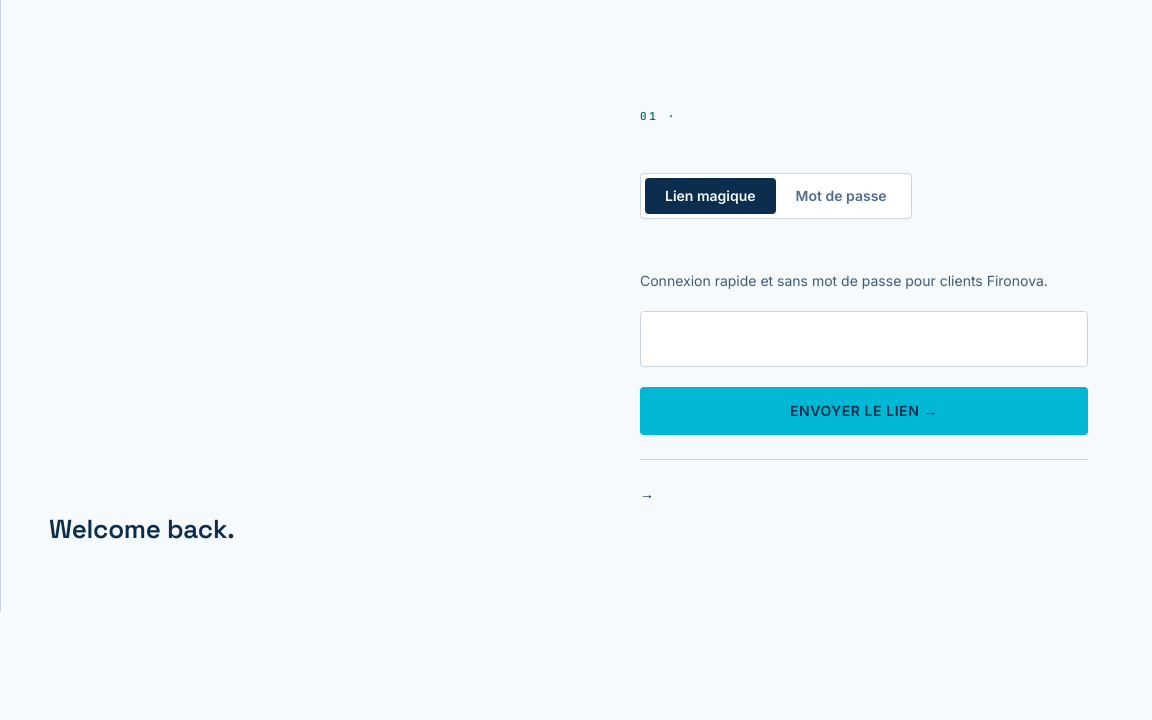
Test: la proposition ne dépend PAS de l'existence du compte
Type "compte-qui-existe@example.com" into the field with test id "login-magic-email" at (864,339), box [640,311,1088,367]
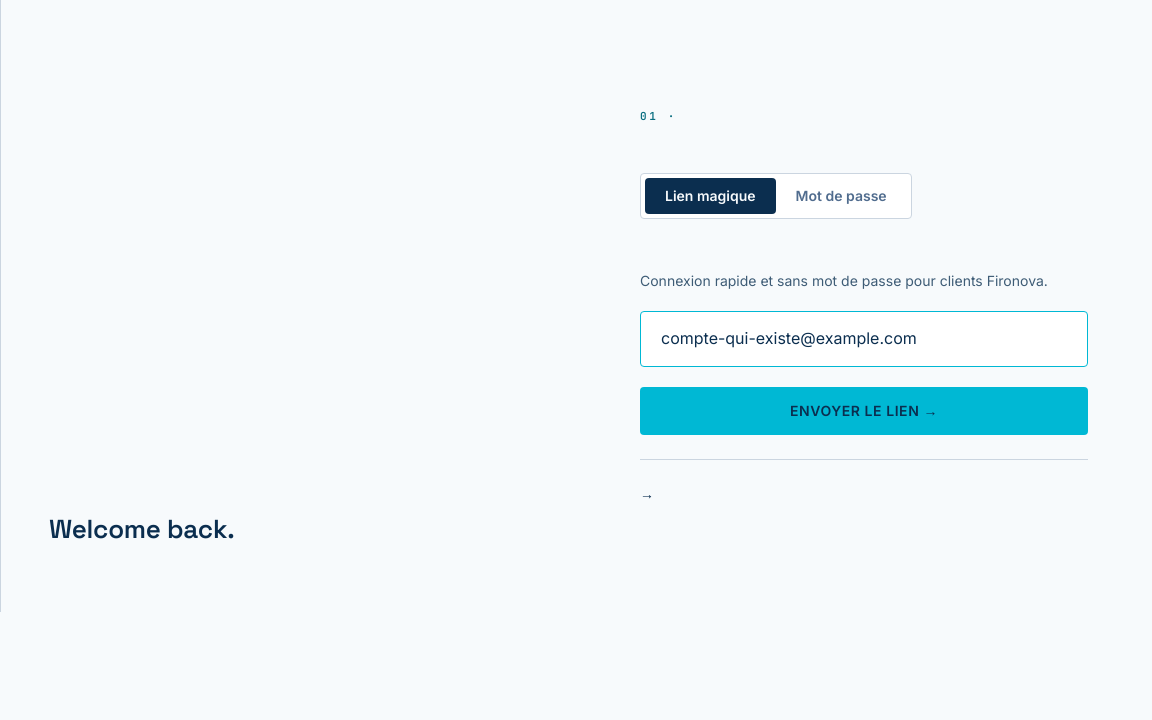
Click the button with test id "login-magic-submit" at (864,411), box [640,387,1088,435]
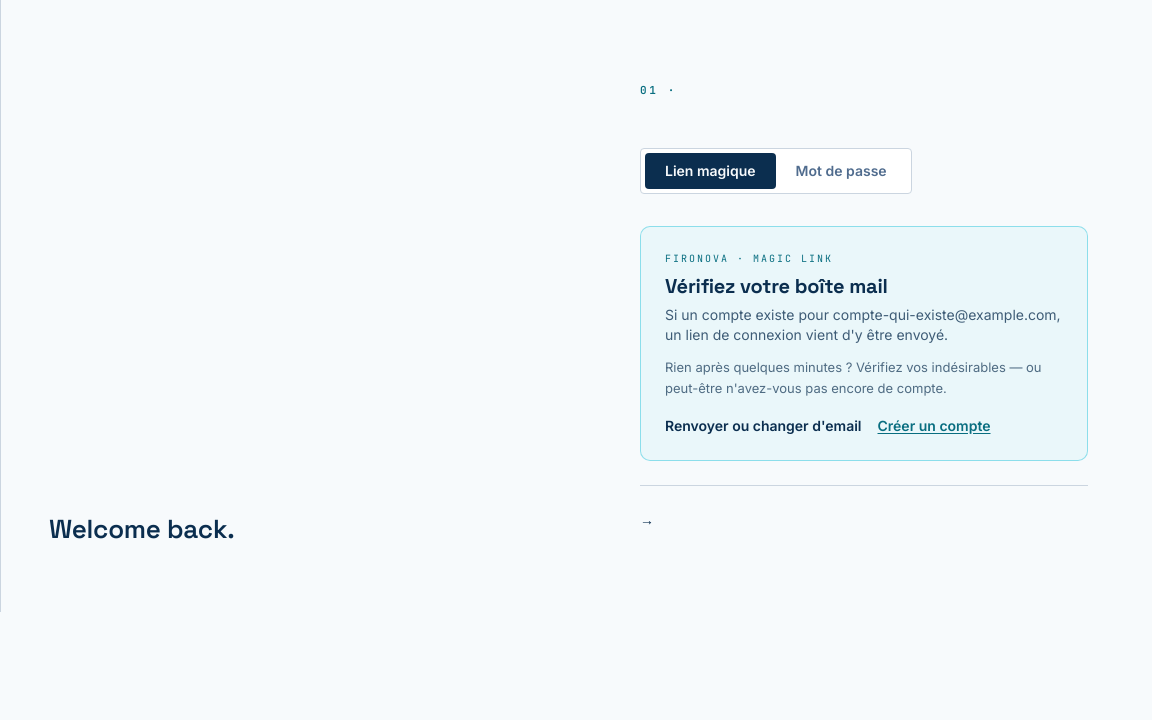
Result: the element with test id "magic-sent" is shown at [640,226,1088,461]
Result: the link with test id "magic-create-account" is shown at [878,416,990,436]
Result: the element with test id "magic-sent" shows "Si un compte existe" at [665,306,1061,343]
